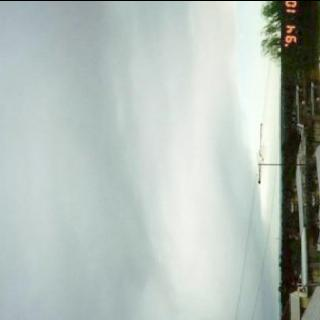Nimbostratus: (1, 0, 284, 320)
